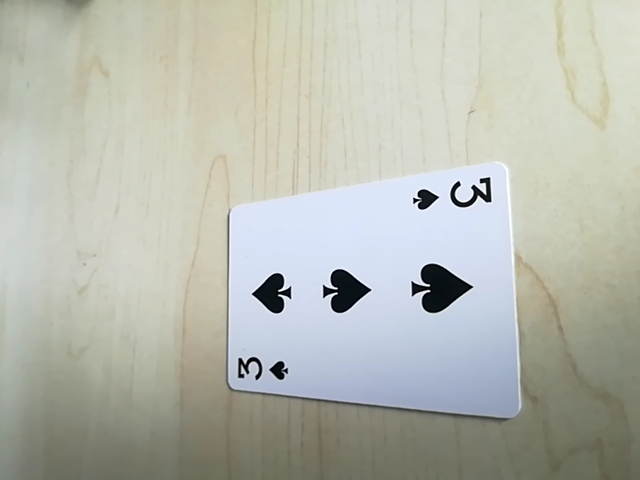ht 3: (411, 173, 499, 218), (230, 349, 294, 391)
